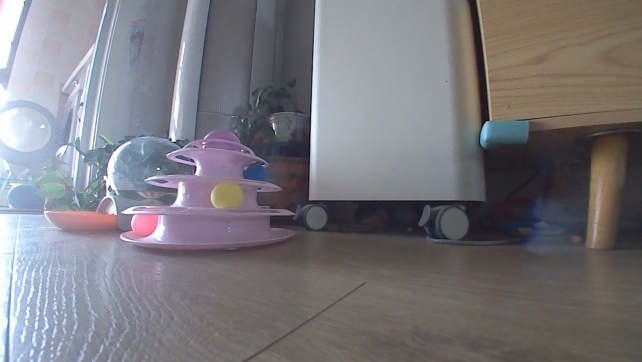plastic_toy: (115, 125, 300, 255)
wire: (424, 233, 524, 249)
